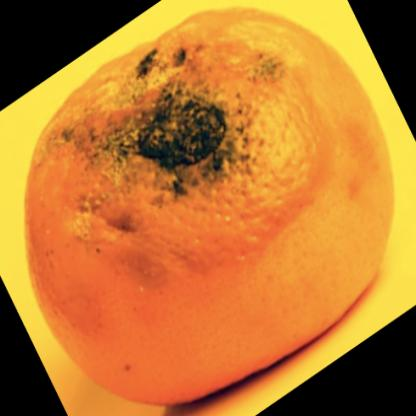rotten: (25, 7, 395, 406)
